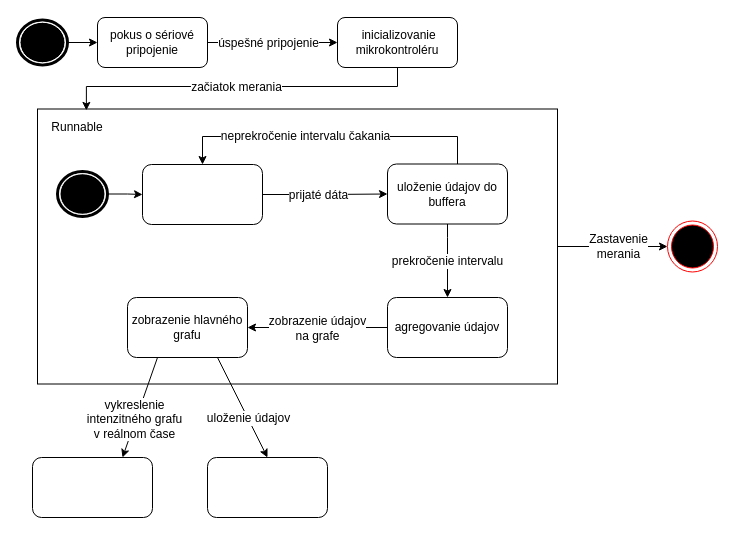
Image size: 735x535. Some labels were removed from this diagram. Here are the shapes that lost their labels. From the top down, the centre of each, then its label:
the point at 202,194: čakanie na dáta z merania
the point at 92,487: Zobrazenie intenzitného grafu
the point at 267,487: Ukladanie agregovaných údajov
